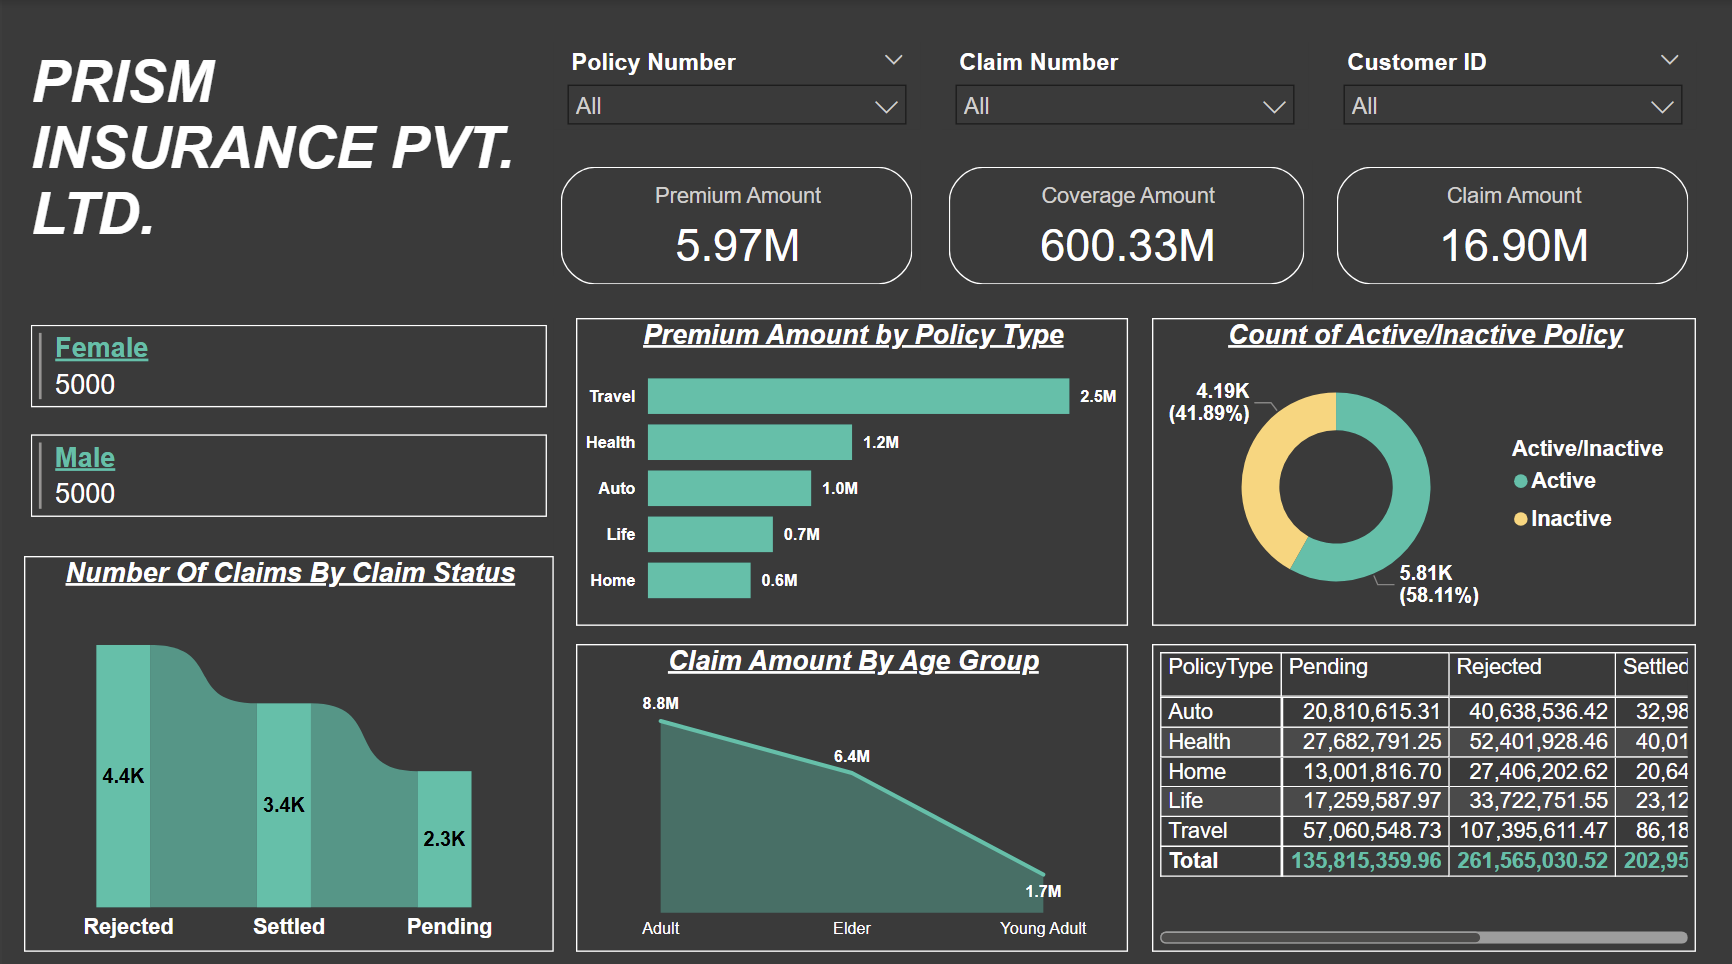

The page's visual inventory and layout, read from the dashboard file:
{"tool":"powerbi","page":{"name":"Page 1","canvas":[1280,720],"ordinal":0},"visuals":[{"type":"slicer","fields":{"Values":["Insurance Data.PolicyNumber"]},"box":[407.9,31,270.5,65],"z":0},{"type":"slicer","fields":{"Values":["Insurance Data.ClaimNumber"]},"box":[694.7,31,270.5,65],"z":1000},{"type":"slicer","fields":{"Values":["Insurance Data.CustomerID"]},"box":[981.4,31,270.5,65],"z":2000},{"type":"textbox","box":[16.3,31,391.7,172.9],"z":3000},{"type":"cardVisual","fields":{"Data":["Sum(Insurance Data.PremiumAmount)"]},"box":[407.9,118.2,270.5,97.6],"z":4000},{"type":"cardVisual","fields":{"Data":["Sum(Insurance Data.CoverageAmount)"]},"box":[694.7,118.2,273.4,97.6],"z":5000},{"type":"cardVisual","fields":{"Data":["Sum(Insurance Data.ClaimAmount)"]},"box":[981.4,118.2,270.5,97.6],"z":6000},{"type":"multiRowCard","fields":{"Values":["Insurance Data.Gender","CountNonNull(Insurance Data.Gender)"]},"box":[16.3,235,391.7,175.9],"z":7000},{"type":"ribbonChart","title":"Number Of Claims By Claim Status","fields":{"Category":["Insurance Data.ClaimStatus"],"Y":["CountNonNull(Insurance Data.ClaimStatus)"]},"box":[16.3,410.9,391.7,292.7],"z":8000},{"type":"barChart","title":"Premium Amount by Policy  Type","fields":{"Category":["Insurance Data.PolicyType"],"Y":["Sum(Insurance Data.PremiumAmount)"]},"box":[424.2,235,407.9,227.6],"z":9000},{"type":"lineChart","title":"Claim Amount By Age Group","fields":{"Category":["Insurance Data.Age Group"],"Y":["Sum(Insurance Data.ClaimAmount)"]},"box":[424.2,475.9,407.9,227.6],"z":10000},{"type":"donutChart","title":"Count of Active/Inactive Policy","fields":{"Category":["Insurance Data.Active/Inactive"],"Y":["CountNonNull(Insurance Data.Active/Inactive)"]},"box":[849.9,235,402,227.6],"z":11000},{"type":"pivotTable","fields":{"Values":["Sum(Insurance Data.CoverageAmount)"],"Rows":["Insurance Data.PolicyType"],"Columns":["Insurance Data.ClaimStatus"]},"box":[849.9,475.9,402,227.6],"z":12000}]}

Visuals, with their boxes in screenshot pixels (x1, y1, x2, y2), scaled from the page's 1280x720 canvas onto the 1732x964 screenshot:
slicer - Insurance Data.PolicyNumber: (x1=552, y1=42, x2=918, y2=129)
slicer - Insurance Data.ClaimNumber: (x1=940, y1=42, x2=1306, y2=129)
slicer - Insurance Data.CustomerID: (x1=1328, y1=42, x2=1694, y2=129)
textbox: (x1=22, y1=42, x2=552, y2=273)
cardVisual - Sum(Insurance Data.PremiumAmount): (x1=552, y1=158, x2=918, y2=289)
cardVisual - Sum(Insurance Data.CoverageAmount): (x1=940, y1=158, x2=1310, y2=289)
cardVisual - Sum(Insurance Data.ClaimAmount): (x1=1328, y1=158, x2=1694, y2=289)
multiRowCard - Insurance Data.Gender x CountNonNull(Insurance Data.Gender): (x1=22, y1=315, x2=552, y2=550)
"Number Of Claims By Claim Status" ribbonChart: (x1=22, y1=550, x2=552, y2=942)
"Premium Amount by Policy  Type" barChart: (x1=574, y1=315, x2=1126, y2=619)
"Claim Amount By Age Group" lineChart: (x1=574, y1=637, x2=1126, y2=942)
"Count of Active/Inactive Policy" donutChart: (x1=1150, y1=315, x2=1694, y2=619)
pivotTable - Sum(Insurance Data.CoverageAmount) x Insurance Data.PolicyType: (x1=1150, y1=637, x2=1694, y2=942)
